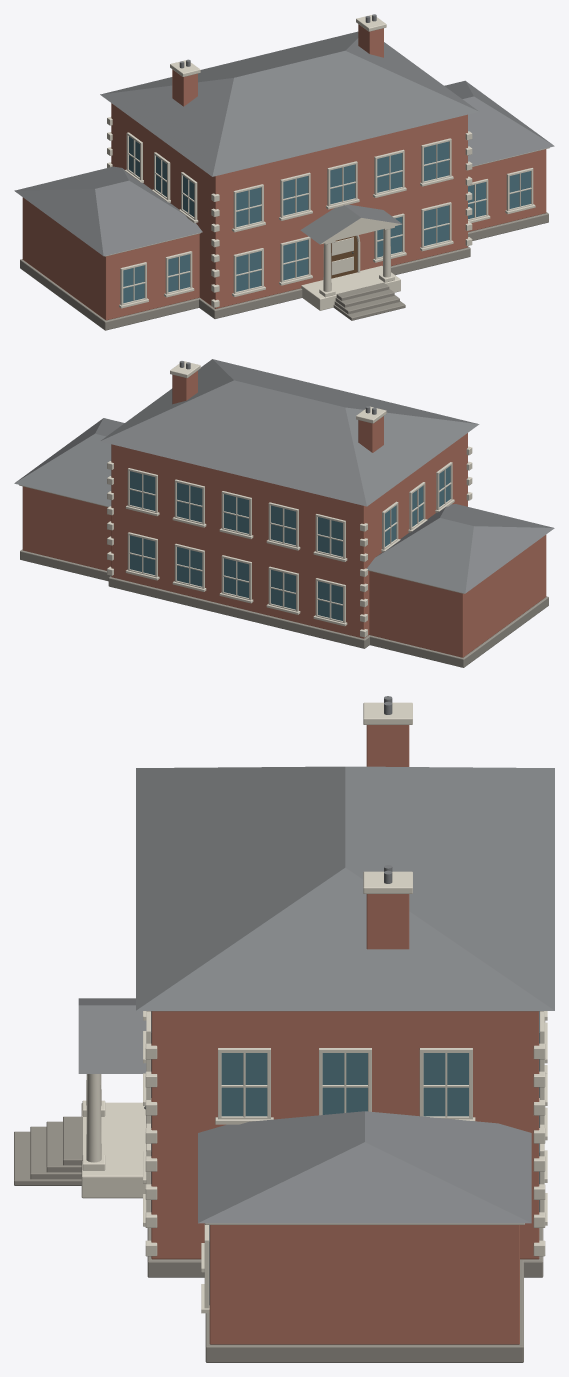
The model's file is large_georgian.glb.
3 renders of one model, top to bottom at view 1: azimuth 30°, elevation 25°; view 2: azimuth 150°, elevation 25°; view 3: azimuth 270°, elevation 25°, orthographic. The views are drawn at different scales.
Parts seen in each view (by area): view 1: Main Georgian closed hipped roof, Georgian central manor closed exterior walls, Symmetrical lower wing closed exterior walls, Lower wing closed hipped roof, Lower wing closed hipped roof.001, Symmetrical lower wing closed exterior walls.001, Central pediment portico solid gabled roof, Symmetrical lower wing closed foundation, Georgian central manor closed foundation, Portico stone landing, Ground Georgian sash glazing, Upper Georgian five-bay sash glazing (+20 smaller); view 2: Main Georgian closed hipped roof, Georgian central manor closed exterior walls, Symmetrical lower wing closed exterior walls, Lower wing closed hipped roof, Symmetrical lower wing closed exterior walls.001, Lower wing closed hipped roof.001, Georgian central manor closed foundation, Symmetrical lower wing closed foundation, Symmetrical lower wing closed foundation.001, Rear Georgian sash glazing.007, Rear Georgian sash glazing.006, Rear Georgian sash glazing.008 (+10 smaller); view 3: Main Georgian closed hipped roof, Georgian central manor closed exterior walls, Symmetrical lower wing closed exterior walls.001, Lower wing closed hipped roof.001, Symmetrical lower wing closed foundation.001, Central pediment portico solid gabled roof, Portico stone landing, Side upper Georgian sash glazing, Side upper Georgian sash glazing.002, Side upper Georgian sash glazing.001, Symmetric chimney brick shaft.001, Symmetric chimney brick shaft (+8 smaller).
Boxes of the visible parts, x1,y1,x2,y2 form: Main Georgian closed hipped roof: (100,31,479,176); Georgian central manor closed exterior walls: (111,103,467,308); Symmetrical lower wing closed exterior walls: (22,197,199,320); Lower wing closed hipped roof: (14,166,202,256); Lower wing closed hipped roof.001: (444,80,554,166); Symmetrical lower wing closed exterior walls.001: (468,149,546,231); Central pediment portico solid gabled roof: (300,204,402,244); Symmetrical lower wing closed foundation: (20,259,200,330); Georgian central manor closed foundation: (199,246,470,318); Portico stone landing: (301,265,400,310); Ground Georgian sash glazing: (236,251,261,291); Upper Georgian five-bay sash glazing: (236,187,261,227); Main Georgian closed hipped roof: (100,359,479,506); Georgian central manor closed exterior walls: (111,433,467,638); Symmetrical lower wing closed exterior walls: (369,535,546,657); Lower wing closed hipped roof: (367,504,554,593); Symmetrical lower wing closed exterior walls.001: (22,486,111,570); Lower wing closed hipped roof.001: (14,418,124,506); Georgian central manor closed foundation: (108,576,369,648); Symmetrical lower wing closed foundation: (368,596,548,667); Symmetrical lower wing closed foundation.001: (20,549,110,581); Rear Georgian sash glazing.007: (177,482,202,522); Rear Georgian sash glazing.006: (177,547,202,586); Rear Georgian sash glazing.008: (130,535,155,575); Main Georgian closed hipped roof: (136,766,554,1010); Georgian central manor closed exterior walls: (151,1011,539,1259); Symmetrical lower wing closed exterior walls.001: (209,1225,519,1344); Lower wing closed hipped roof.001: (198,1111,531,1223); Symmetrical lower wing closed foundation.001: (205,1259,523,1362); Central pediment portico solid gabled roof: (78,998,146,1073); Portico stone landing: (81,1102,145,1198); Side upper Georgian sash glazing: (221,1053,267,1116); Side upper Georgian sash glazing.002: (423,1053,468,1116); Side upper Georgian sash glazing.001: (322,1053,367,1114); Symmetric chimney brick shaft.001: (366,894,409,949); Symmetric chimney brick shaft: (366,725,409,766).
Size of the model in its own units: 25 by 10.7 by 13.94.
